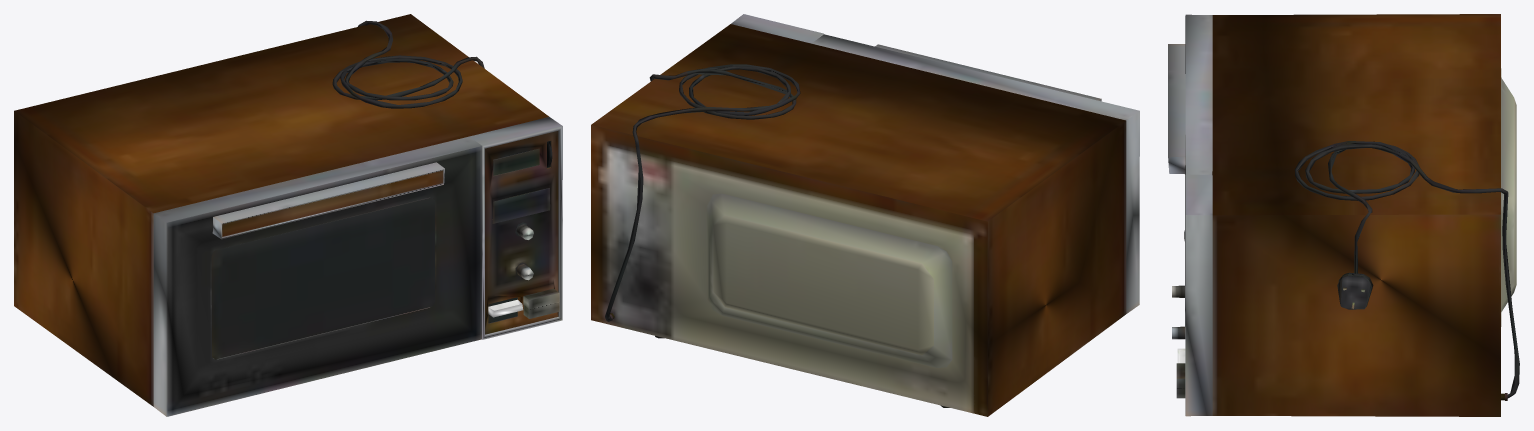
The model's file is cc0_microwave.glb.
3 views of the same model, side by side, from view 1: azimuth 30°, elevation 25°; view 2: azimuth 150°, elevation 25°; view 3: azimuth 270°, elevation 25° (orthographic). The views are drawn at different scales.
Visible parts, largest first — view 1: vintage_microwave; view 2: vintage_microwave; view 3: vintage_microwave.
Part boxes in pixels (left/top/right/bottom): vintage_microwave: left=14, top=14, right=562, bottom=416; vintage_microwave: left=591, top=14, right=1139, bottom=416; vintage_microwave: left=1168, top=14, right=1519, bottom=416.
Size of the model in its own units: 1.07 by 0.5258 by 0.7446.
Materials: 2 (2 with a texture image).
